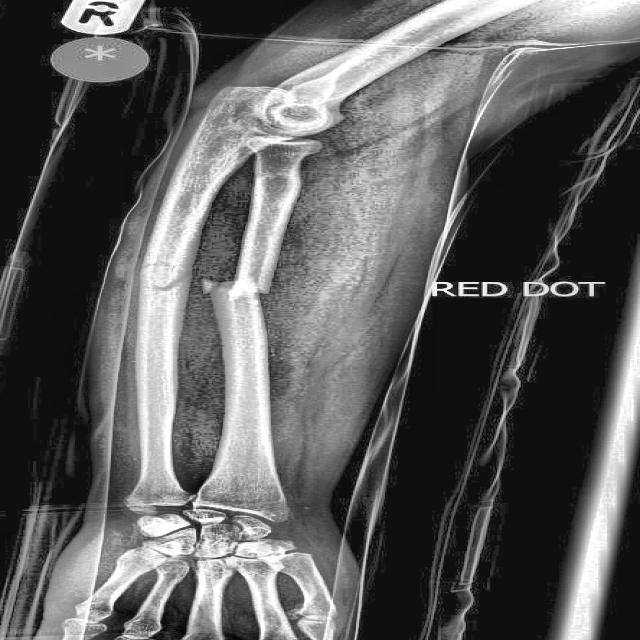line: (136, 255, 183, 295)
messed_up_angle: (202, 276, 271, 298)
